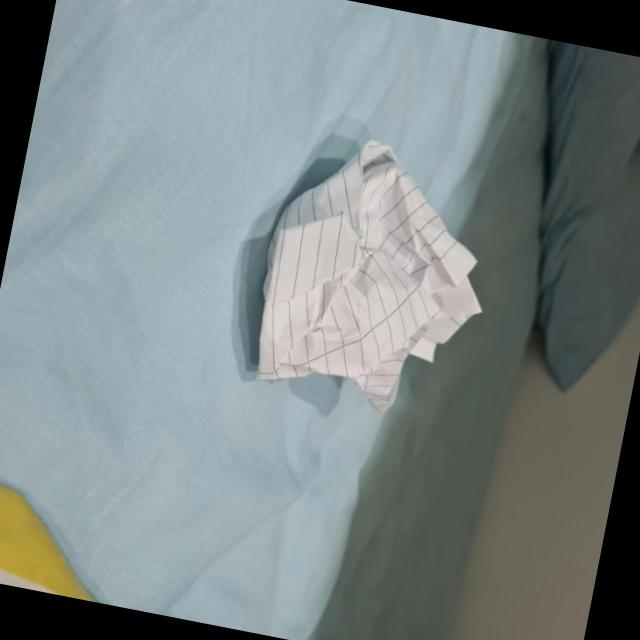cardboard paper: (260, 143, 482, 412), (0, 486, 95, 602)
